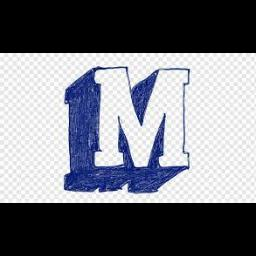m: (52, 60, 204, 196)
